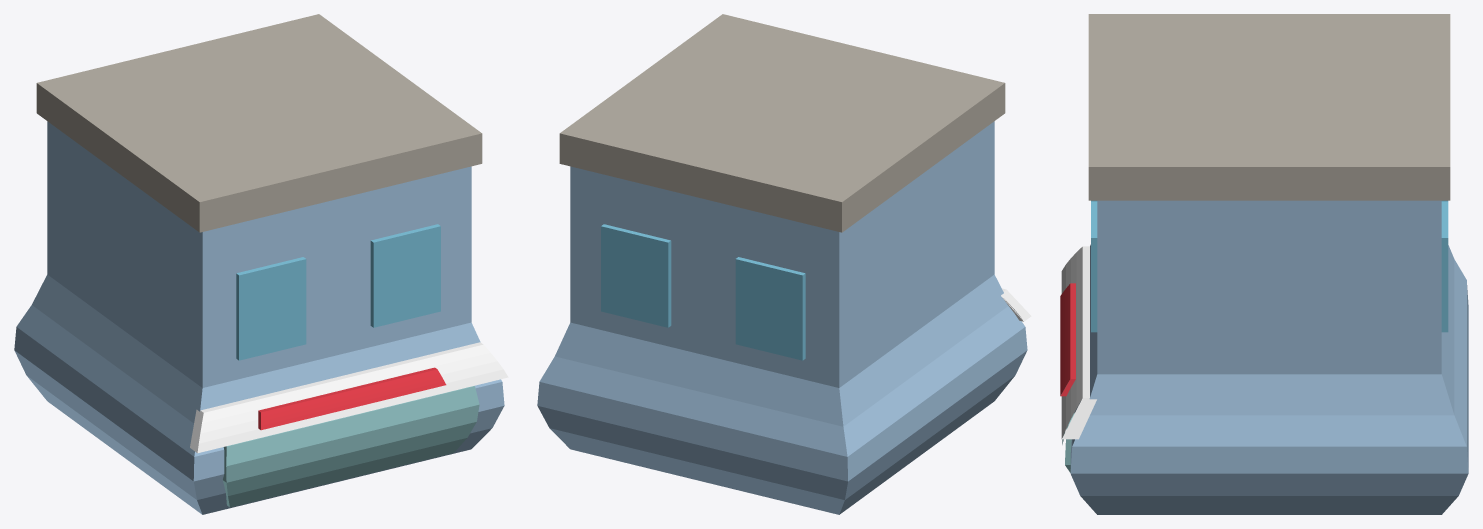
The model's file is shop_2.glb.
3 views of the same model, side by side, from view 1: azimuth 30°, elevation 25°; view 2: azimuth 150°, elevation 25°; view 3: azimuth 270°, elevation 25° (orthographic). The views are drawn at different scales.
Visible parts, largest first — view 1: shop_2_wall_blue, shop_2_roof_flat, shop_2_glass, shop_2_window, shop_2_white, shop_2_red; view 2: shop_2_wall_blue, shop_2_roof_flat, shop_2_window; view 3: shop_2_wall_blue, shop_2_roof_flat, shop_2_white, shop_2_window, shop_2_red.
Part boxes in pixels (bbox=[...]): shop_2_wall_blue: bbox=[14, 121, 504, 514]; shop_2_roof_flat: bbox=[36, 14, 482, 232]; shop_2_glass: bbox=[223, 386, 479, 507]; shop_2_window: bbox=[236, 224, 440, 360]; shop_2_white: bbox=[190, 342, 508, 453]; shop_2_red: bbox=[258, 367, 446, 430]; shop_2_wall_blue: bbox=[537, 121, 1027, 514]; shop_2_roof_flat: bbox=[559, 14, 1005, 232]; shop_2_window: bbox=[601, 224, 805, 360]; shop_2_wall_blue: bbox=[1070, 200, 1468, 514]; shop_2_roof_flat: bbox=[1088, 14, 1450, 200]; shop_2_white: bbox=[1061, 246, 1096, 439]; shop_2_window: bbox=[1091, 200, 1448, 332]; shop_2_red: bbox=[1060, 283, 1075, 396].
Bounding box in the file's own units: 9.62 × 9.38 × 9.86.
